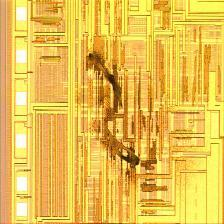COATING BAD: (81, 1, 224, 205)
